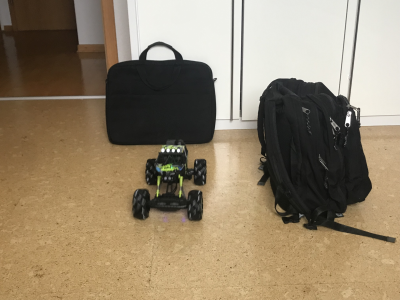remote control car: (131, 137, 209, 223)
